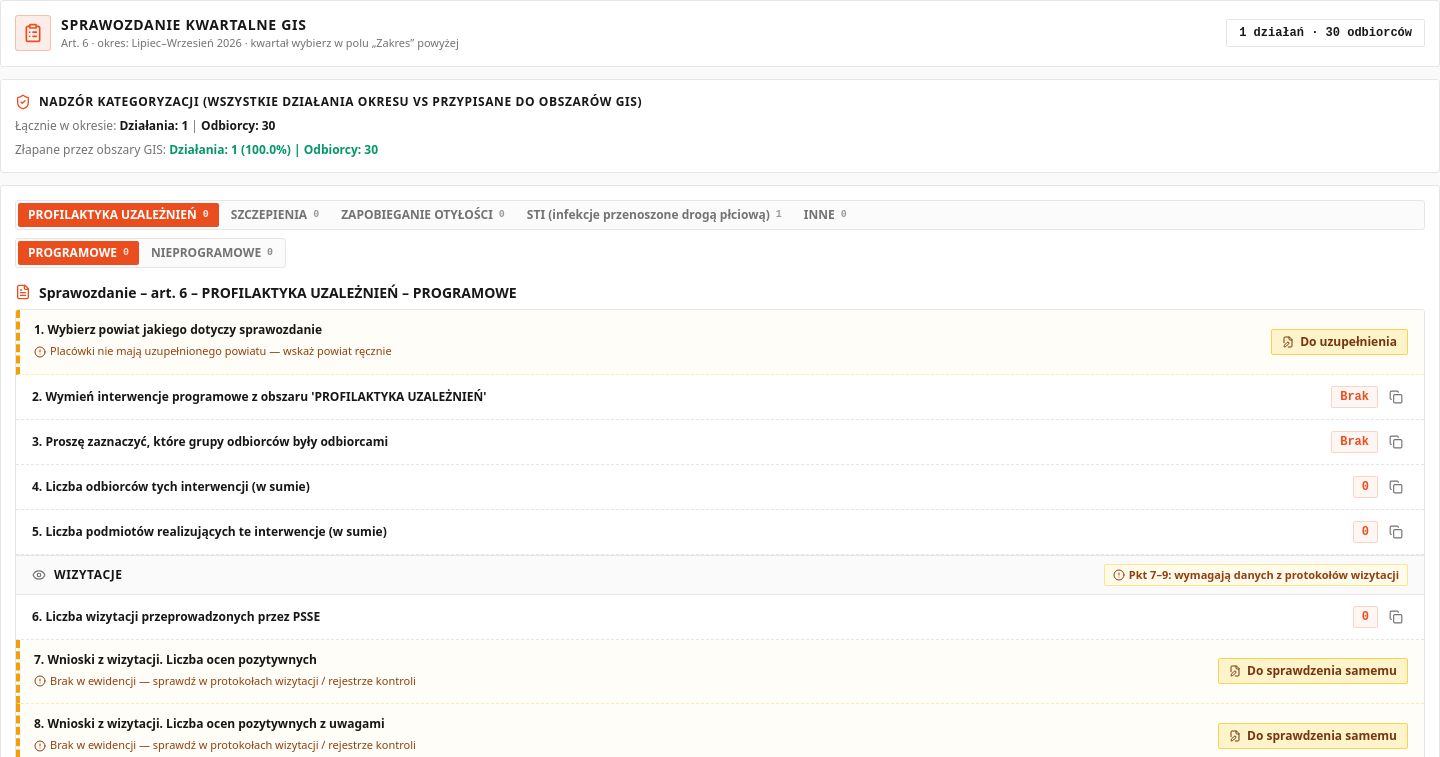
Scenario: ReportGisTab › does not let the case sign make an action without a program programowe
Click the tab "STI (infekcje przenoszone drogą płciową) 1".
click(654, 214)  # box [517,202,792,226]
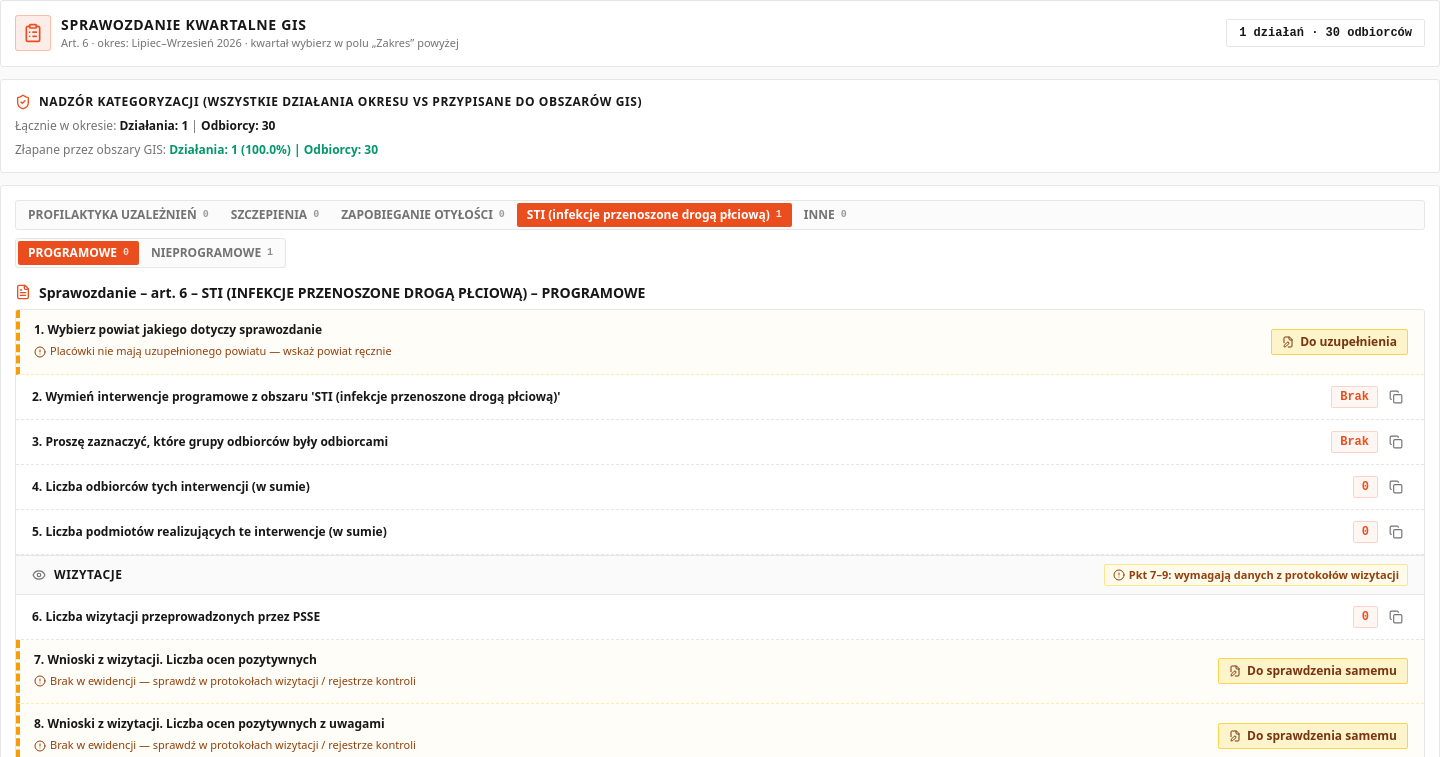
Expected: the 6th text "0" is shown, [1353,476,1378,498]
Result: the heading "STI (INFEKCJE PRZENOSZONE DROGĄ PŁCIOWĄ) – PROGRAMOWE" is shown at [39,284,645,301]
Click the tab "NIEPROGRAMOWE 1".
click(212, 252)  # box [141,240,283,264]
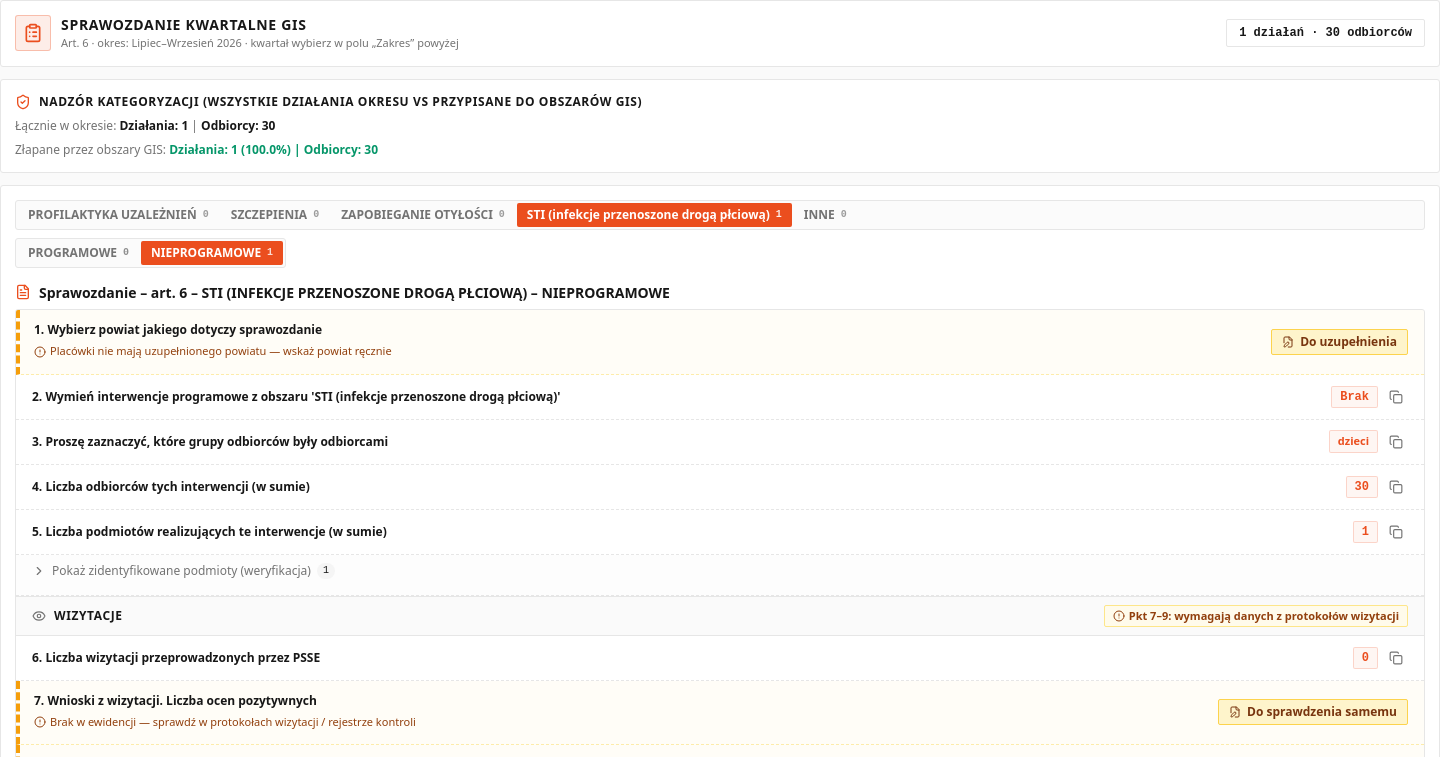
Result: the heading "STI (INFEKCJE PRZENOSZONE DROGĄ PŁCIOWĄ) – NIEPROGRAMOWE" is shown at [39,284,670,301]
Result: the text "30" is shown at [1346,476,1378,498]
